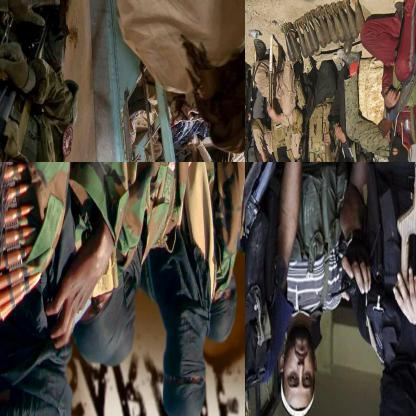rifle: (245, 162, 293, 391), (376, 16, 415, 145), (387, 162, 415, 300), (245, 62, 259, 155)
